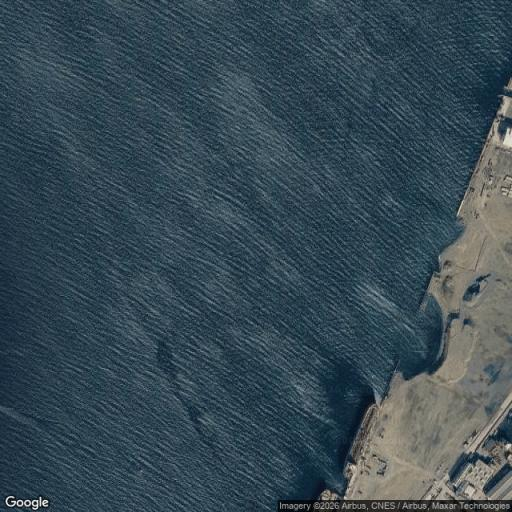ship: (343, 404, 380, 479), (318, 488, 332, 500)
